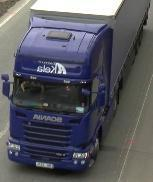truck: (1, 0, 149, 174)
